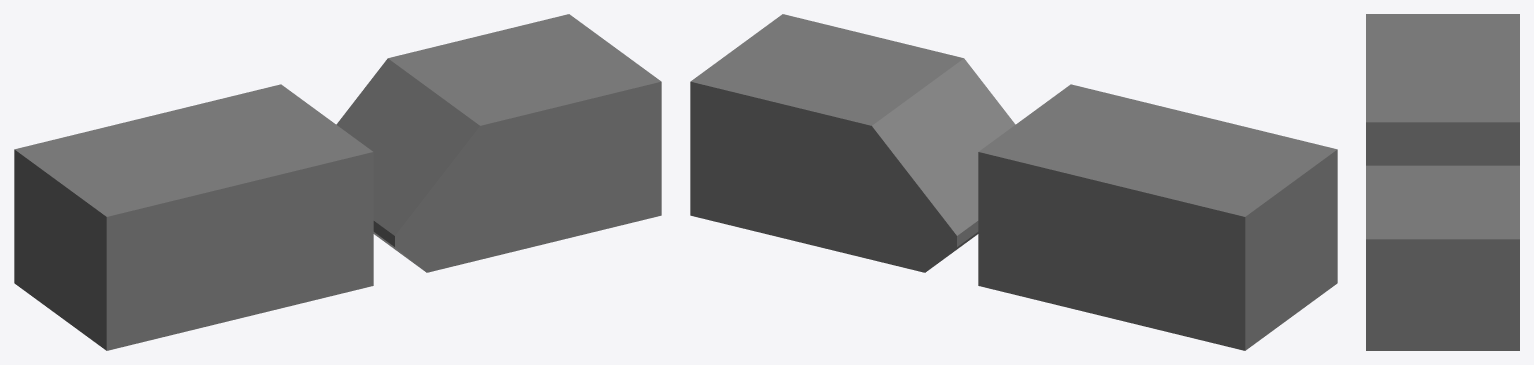
File: С43_Кромки.glb
The picture shows the model from 3 angles, left to right: view 1: azimuth 30°, elevation 25°; view 2: azimuth 150°, elevation 25°; view 3: azimuth 270°, elevation 25°; orthographic projection. The views are drawn at different scales.
Visible parts, largest first — view 1: node_id3; view 2: node_id3; view 3: node_id3.
Part boxes in pixels (<box>): node_id3: <box>14,14,661,350</box>; node_id3: <box>690,14,1337,350</box>; node_id3: <box>1366,14,1519,350</box>.
Size of the model in its own units: 0.512 by 0.1182 by 0.1477.
1 material, 1 textured.
